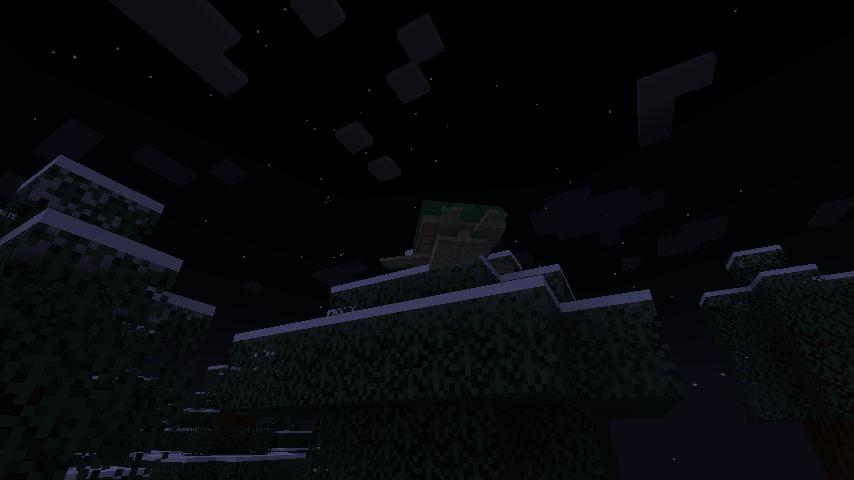turtle: (381, 198, 511, 270)
